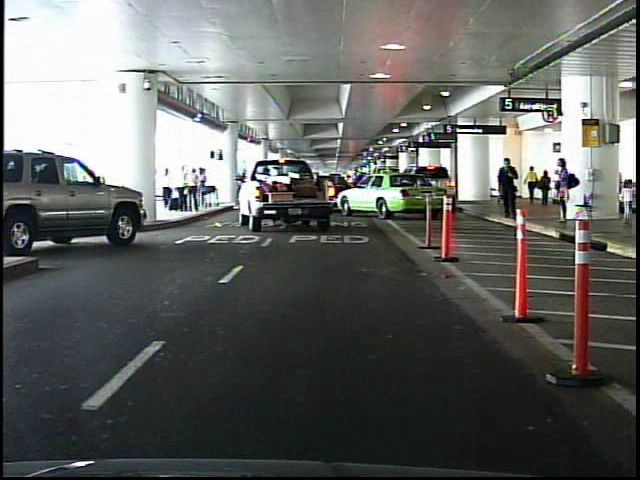person: (549, 156, 575, 226), (496, 155, 519, 221), (618, 177, 636, 228), (540, 170, 552, 208), (527, 166, 537, 205)
